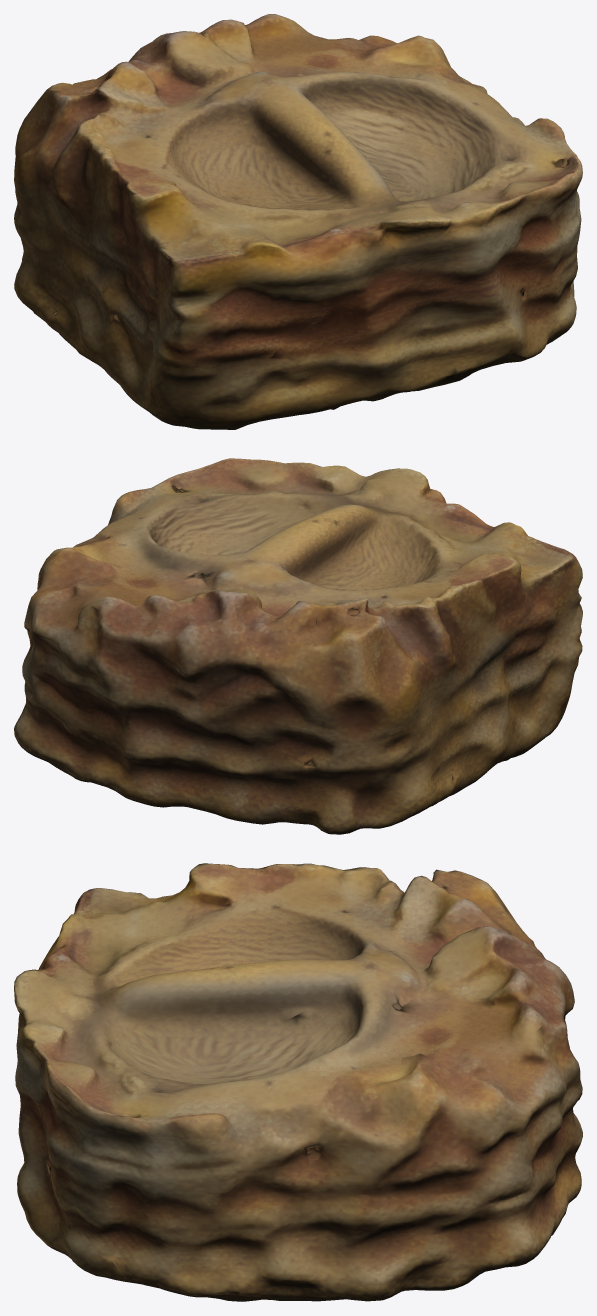
The picture shows the model from 3 angles, top to bottom: view 1: azimuth 30°, elevation 25°; view 2: azimuth 150°, elevation 25°; view 3: azimuth 270°, elevation 25°; orthographic projection. The views are drawn at different scales.
Visible parts, largest first — view 1: geometry_0; view 2: geometry_0; view 3: geometry_0.
Boxes of the visible parts, x1,y1,x2,y2 form: geometry_0: [14, 14, 582, 429]; geometry_0: [14, 458, 582, 834]; geometry_0: [14, 863, 582, 1301].
Size of the model in its own units: 0.22 by 0.1135 by 0.2193.
1 material, 1 textured.
